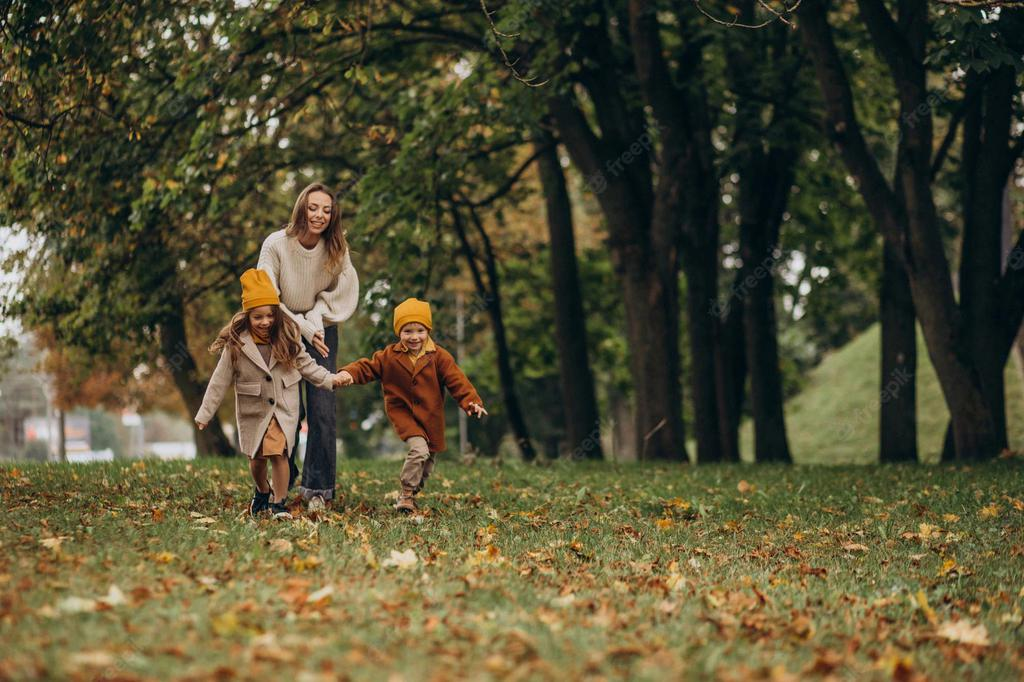child: (326, 291, 493, 520), (207, 281, 311, 525)
